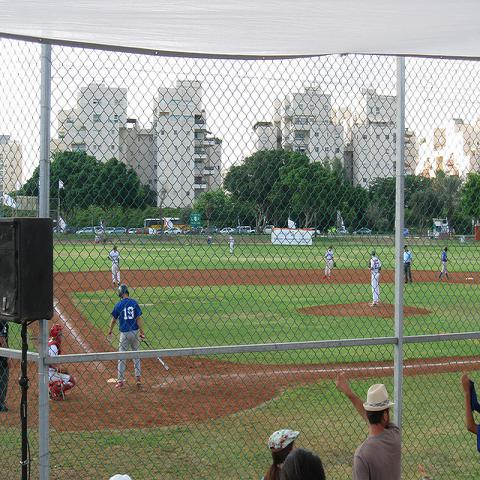bus: (144, 217, 180, 228)
car: (51, 223, 410, 239), (76, 226, 103, 235), (200, 225, 217, 236), (108, 227, 126, 235), (240, 226, 255, 235), (165, 228, 183, 235), (184, 227, 202, 234), (353, 227, 371, 234), (217, 228, 234, 235), (264, 224, 273, 235), (128, 226, 137, 234), (135, 228, 143, 234), (143, 228, 149, 234), (156, 228, 162, 234)
